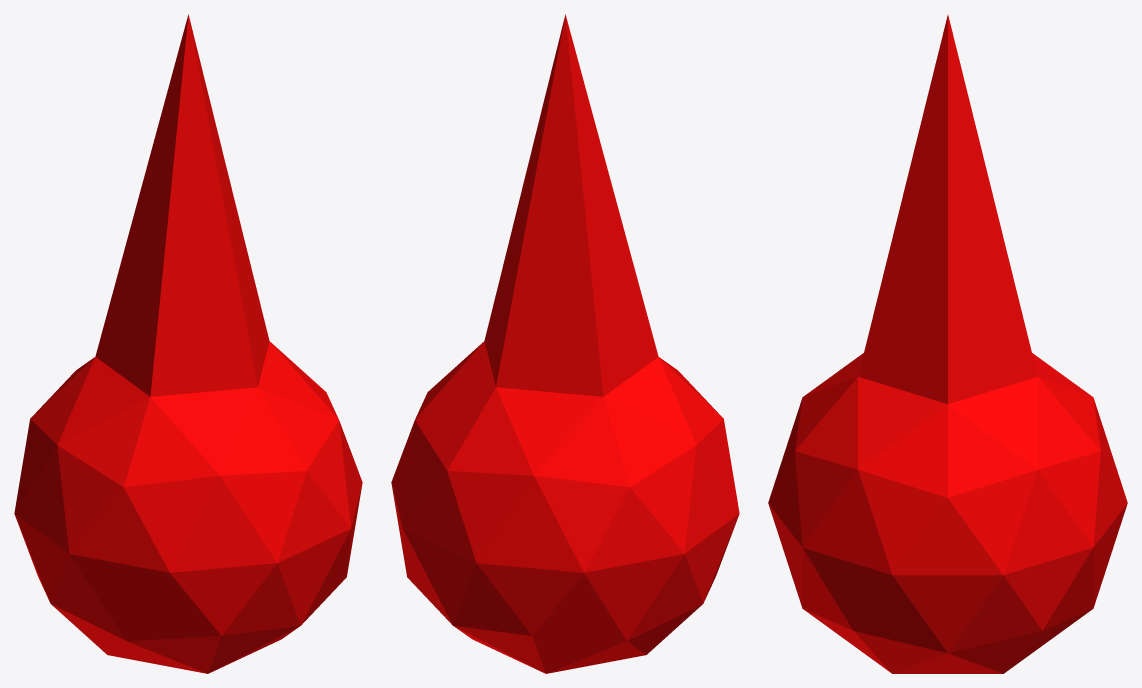
3 views of the same model, side by side, from view 1: azimuth 30°, elevation 25°; view 2: azimuth 150°, elevation 25°; view 3: azimuth 270°, elevation 25° (orthographic).
Visible parts, largest first — view 1: Icosphere; view 2: Icosphere; view 3: Icosphere.
Boxes of the visible parts, left/top/right/bottom form: Icosphere: left=14, top=14, right=362, bottom=673; Icosphere: left=391, top=14, right=739, bottom=673; Icosphere: left=768, top=15, right=1127, bottom=673.
Size of the model in its own units: 1.9 by 4 by 2.
